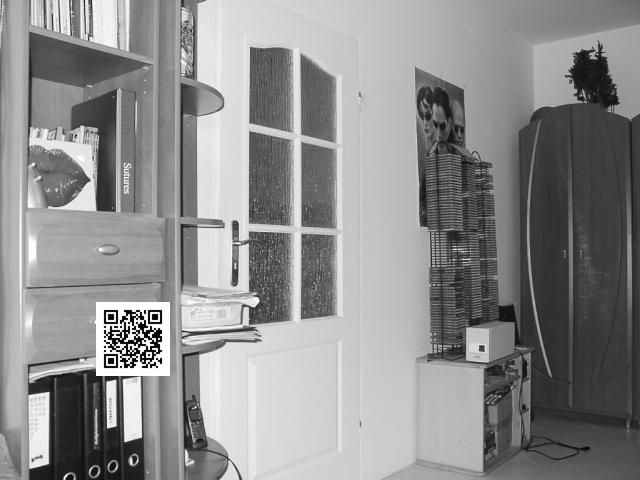qr_code: (96, 302, 169, 373)
